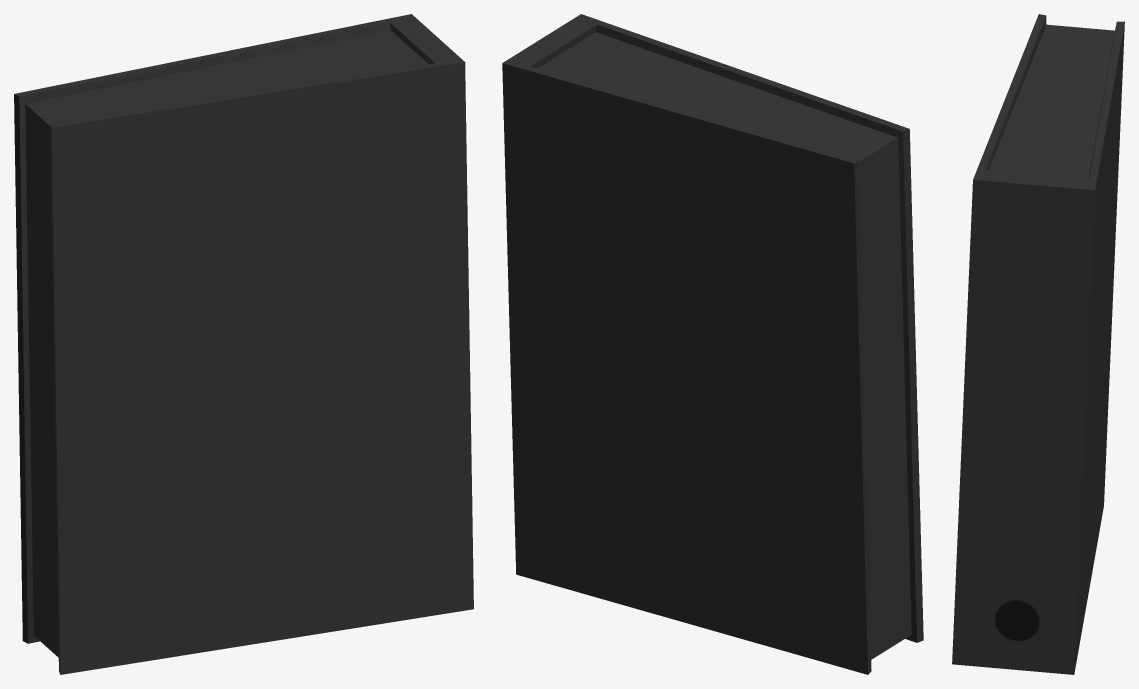
The model's file is office_file06_cube.fbx.
3 renders of one model, left to right at view 1: azimuth 30°, elevation 25°; view 2: azimuth 150°, elevation 25°; view 3: azimuth 270°, elevation 25°, orthographic. The views are drawn at different scales.
Visible parts, largest first — view 1: office_file06_cube; view 2: office_file06_cube; view 3: office_file06_cube.
Boxes of the visible parts, bbox=[...] form: office_file06_cube: bbox=[14, 14, 473, 674]; office_file06_cube: bbox=[502, 14, 923, 674]; office_file06_cube: bbox=[952, 14, 1124, 674].
Size of the model in its own units: 1.27 by 1.67 by 0.5324.
